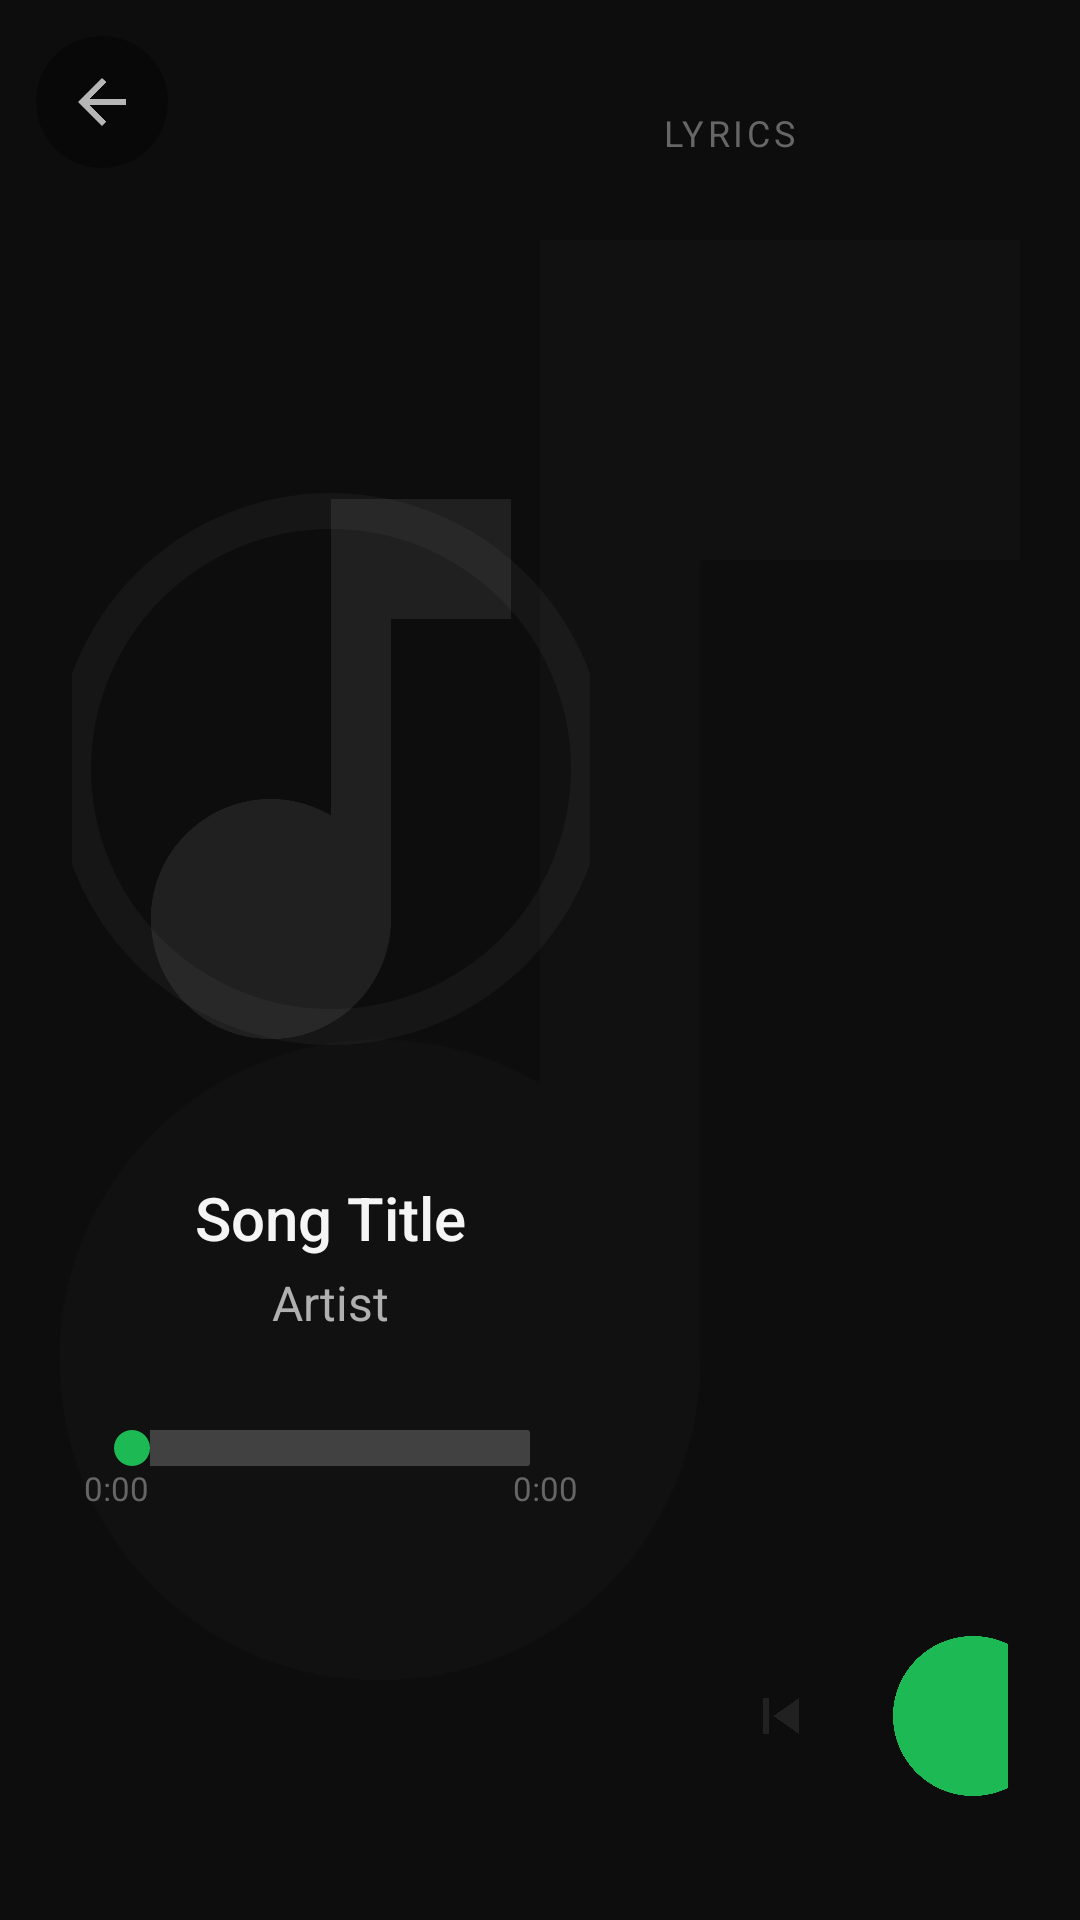

Screen size 1080x1920. Icon name, then its box in pixels as (x1, y1, x2, y2):
Back: (78, 78, 126, 126)
